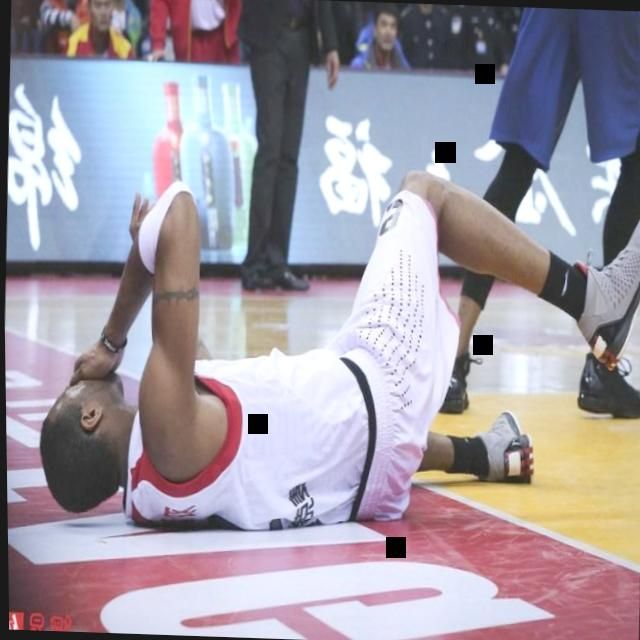Fall-Detected: (23, 142, 638, 538)
